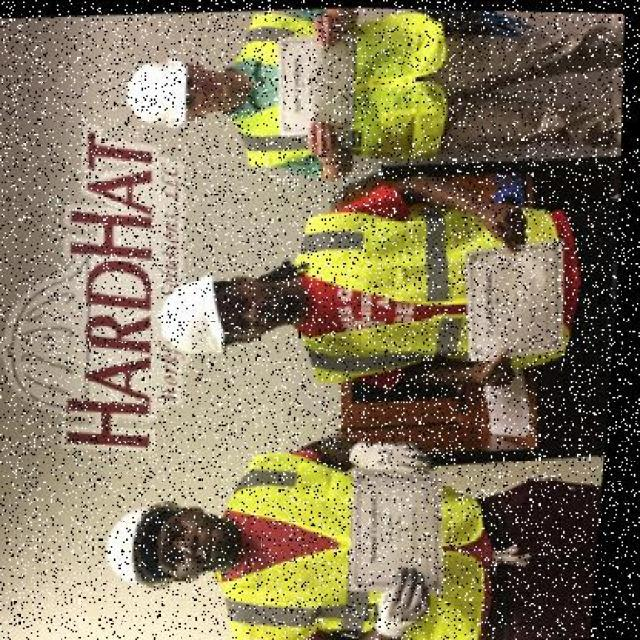helmet: (86, 480, 190, 604), (117, 32, 215, 142), (154, 259, 242, 367)
vest: (208, 428, 517, 639), (285, 172, 575, 388), (211, 5, 479, 168)
